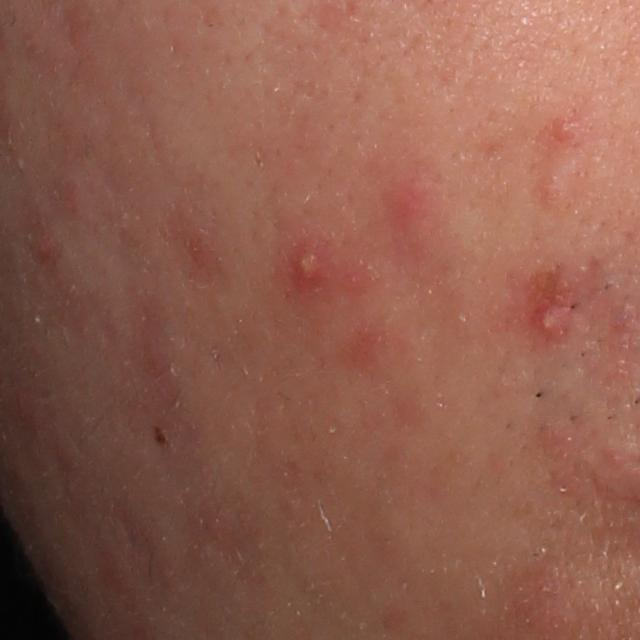nevus: (151, 421, 172, 450)
papule: (551, 116, 585, 142), (33, 241, 56, 268)
pustule: (288, 229, 349, 289), (523, 293, 579, 354)
